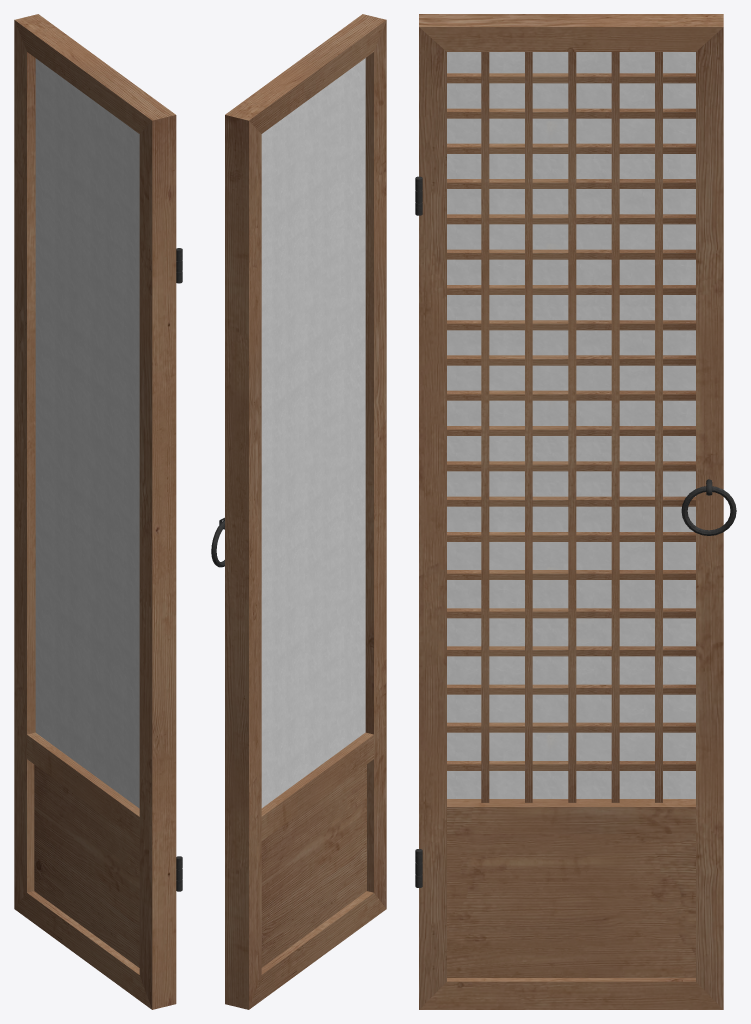
File: SM_Yeonkyung_W_Haenggak_Door_E_001.fbx
The picture shows the model from 3 angles, left to right: view 1: azimuth 30°, elevation 25°; view 2: azimuth 150°, elevation 25°; view 3: azimuth 270°, elevation 25°; orthographic projection. The views are drawn at different scales.
Parts seen in each view (by area): view 1: SM_Yeonkyung_W_Haenggak_Door_E_001; view 2: SM_Yeonkyung_W_Haenggak_Door_E_001; view 3: SM_Yeonkyung_W_Haenggak_Door_E_001.
Boxes of the visible parts, box(x1,y1,x2,y2) form: SM_Yeonkyung_W_Haenggak_Door_E_001: box(14, 14, 182, 1009); SM_Yeonkyung_W_Haenggak_Door_E_001: box(211, 14, 386, 1009); SM_Yeonkyung_W_Haenggak_Door_E_001: box(415, 14, 736, 1009).
Size of the model in its own units: 7.4 by 177 by 52.48.
